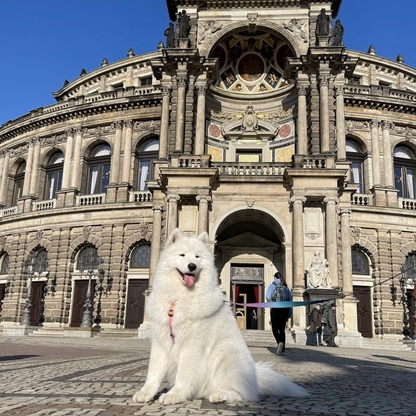samoyed: (129, 224, 315, 416)
